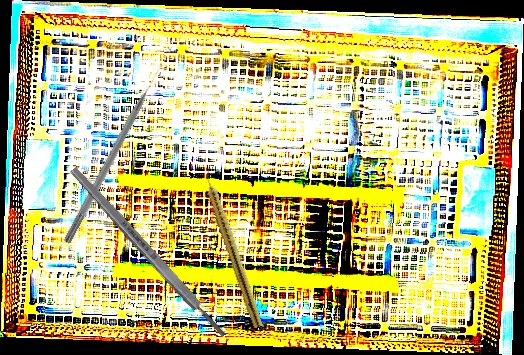Handpiece: (199, 167, 267, 329)
Pusher: (62, 63, 167, 246)
Scalpel Handle: (68, 164, 229, 341)
